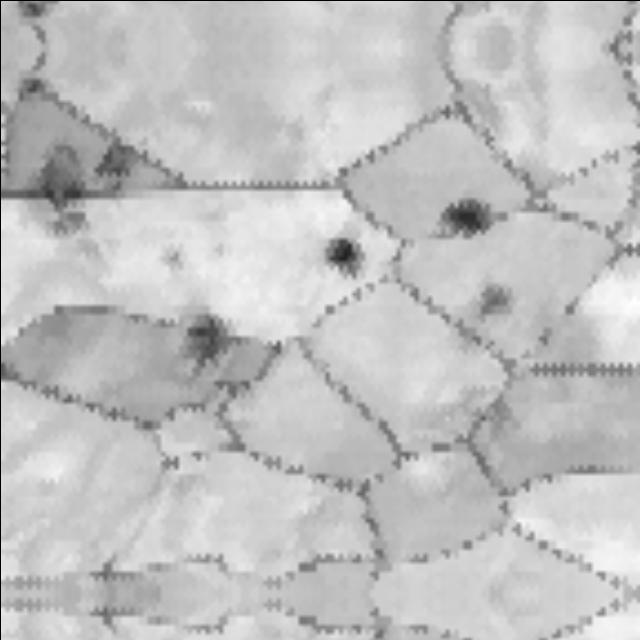good_void: (20, 138, 96, 246), (432, 178, 505, 250), (167, 314, 236, 380), (85, 131, 140, 185), (469, 273, 520, 318), (323, 230, 360, 271), (161, 243, 190, 271)
